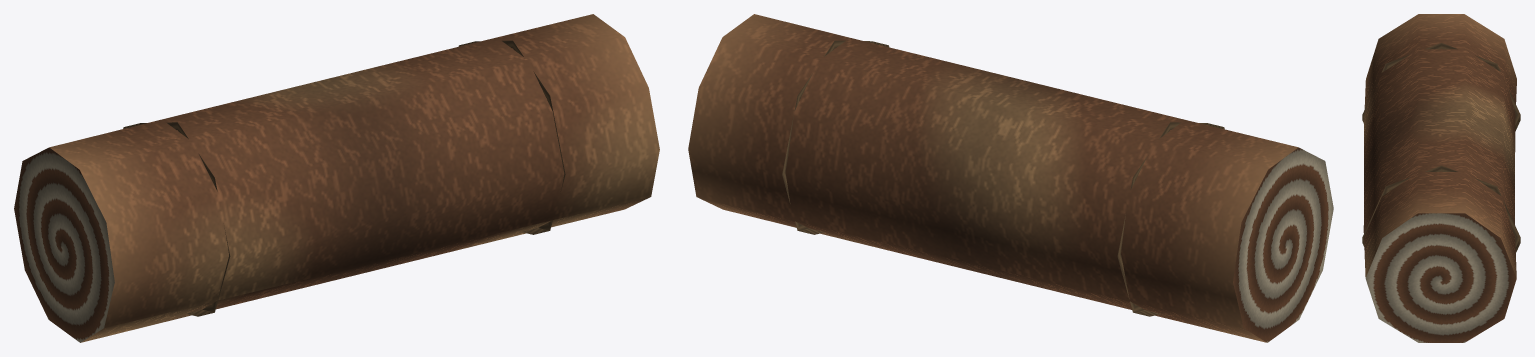
The model's file is bedding_rolled.glb.
3 views of the same model, side by side, from view 1: azimuth 30°, elevation 25°; view 2: azimuth 150°, elevation 25°; view 3: azimuth 270°, elevation 25° (orthographic). The views are drawn at different scales.
Visible parts, largest first — view 1: bedding_rolled; view 2: bedding_rolled; view 3: bedding_rolled.
Part boxes in pixels (x1,y1,x2,y2): bedding_rolled: (14,14,659,342); bedding_rolled: (688,14,1333,342); bedding_rolled: (1362,14,1520,342).
Bounding box in the file's own units: 0.788 × 0.2481 × 0.2612.
1 material, 1 textured.
